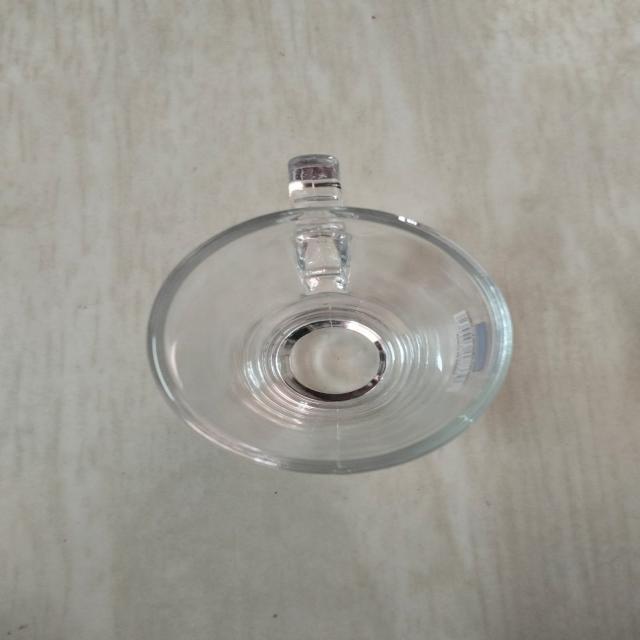glass-VX4N: (147, 155, 515, 479)
